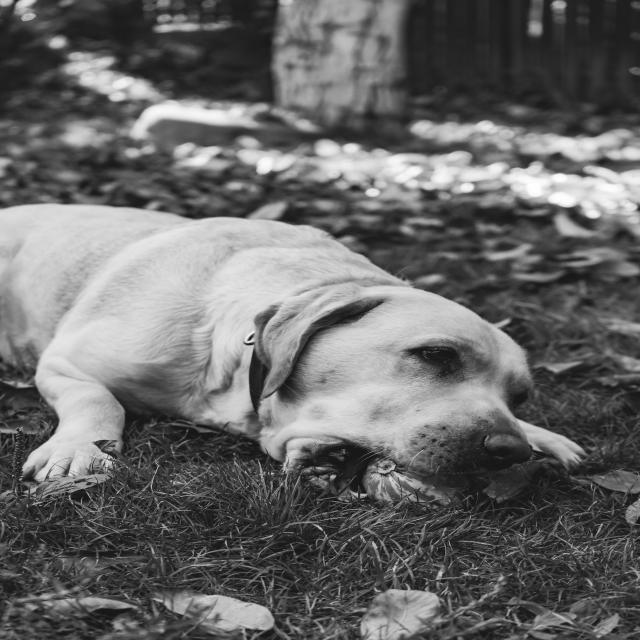laying down: (0, 198, 592, 513)
